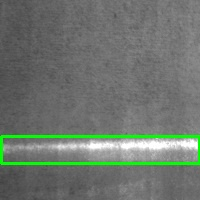scratches: (1, 136, 199, 163)
